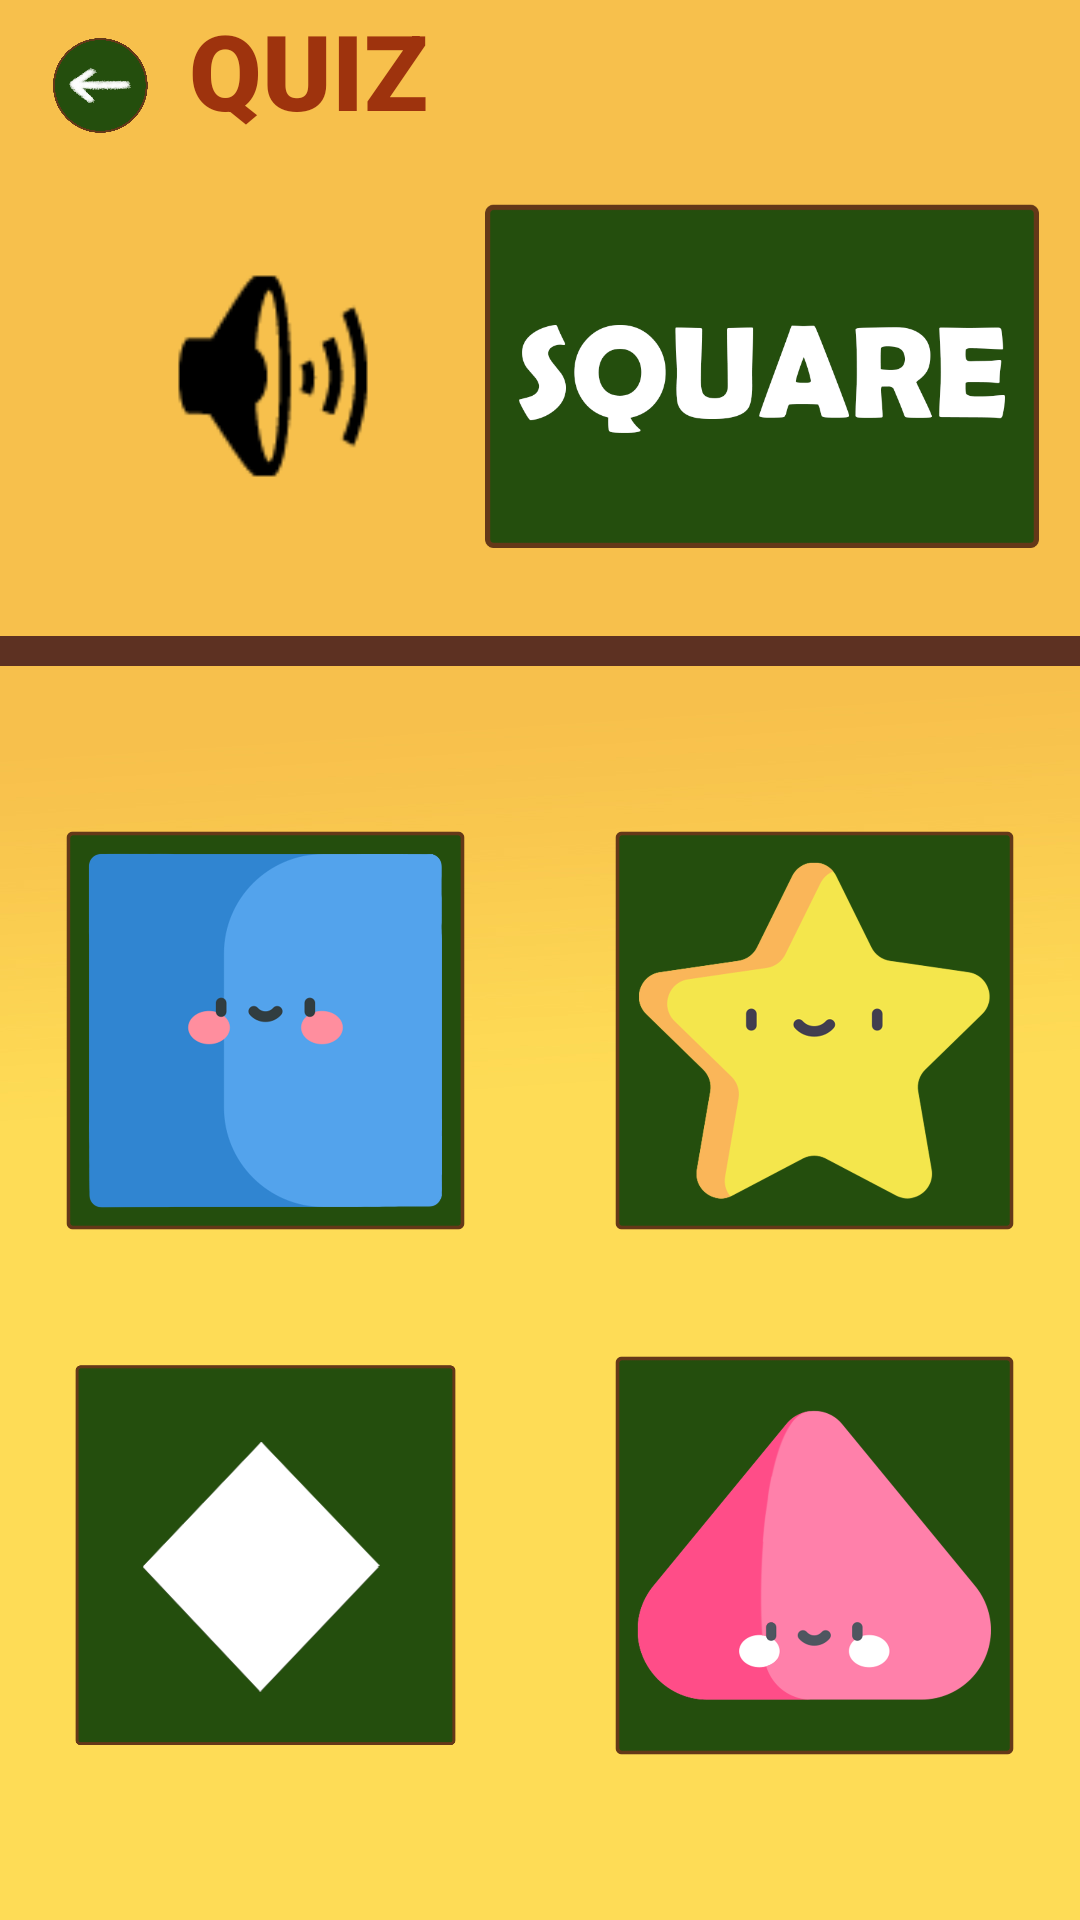

Icon bounding boxes for this 1080px×1920px phone screenshot, format (x1, y1, x2, y2):
back: (53, 38, 148, 133)
lock silent mode off: (178, 275, 368, 477)
